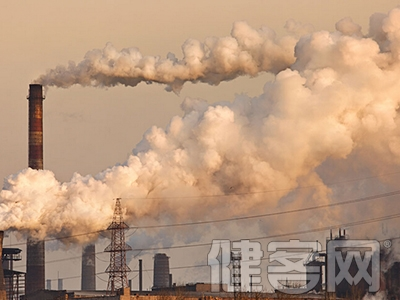dust: (1, 143, 203, 243), (20, 22, 261, 104)
